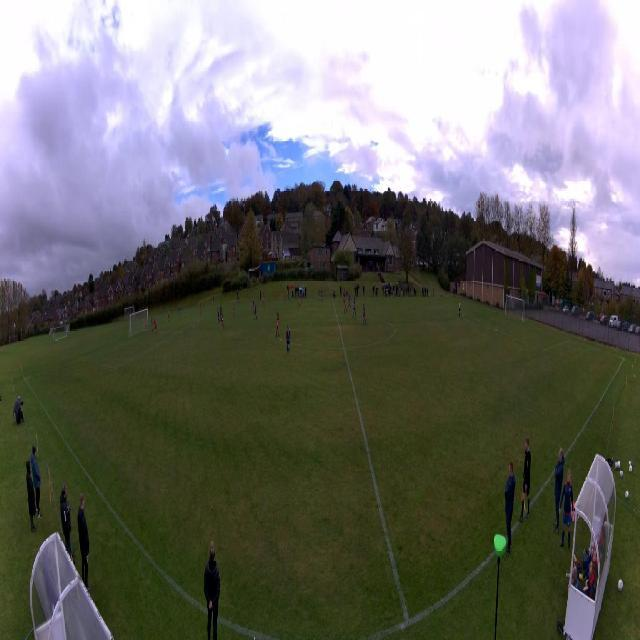player: (286, 327, 291, 355), (275, 312, 279, 338), (362, 304, 366, 326), (343, 297, 348, 314), (352, 297, 356, 317), (298, 292, 302, 309), (348, 293, 352, 309), (221, 311, 224, 330), (254, 303, 257, 322), (458, 300, 461, 318), (217, 307, 220, 324), (252, 298, 255, 315), (318, 290, 322, 302), (262, 293, 265, 307), (145, 317, 148, 331), (220, 303, 222, 320), (155, 319, 157, 336), (321, 290, 324, 301), (153, 314, 155, 330), (151, 317, 153, 332), (168, 309, 170, 323), (179, 305, 181, 317), (233, 302, 235, 314), (200, 305, 202, 316)
